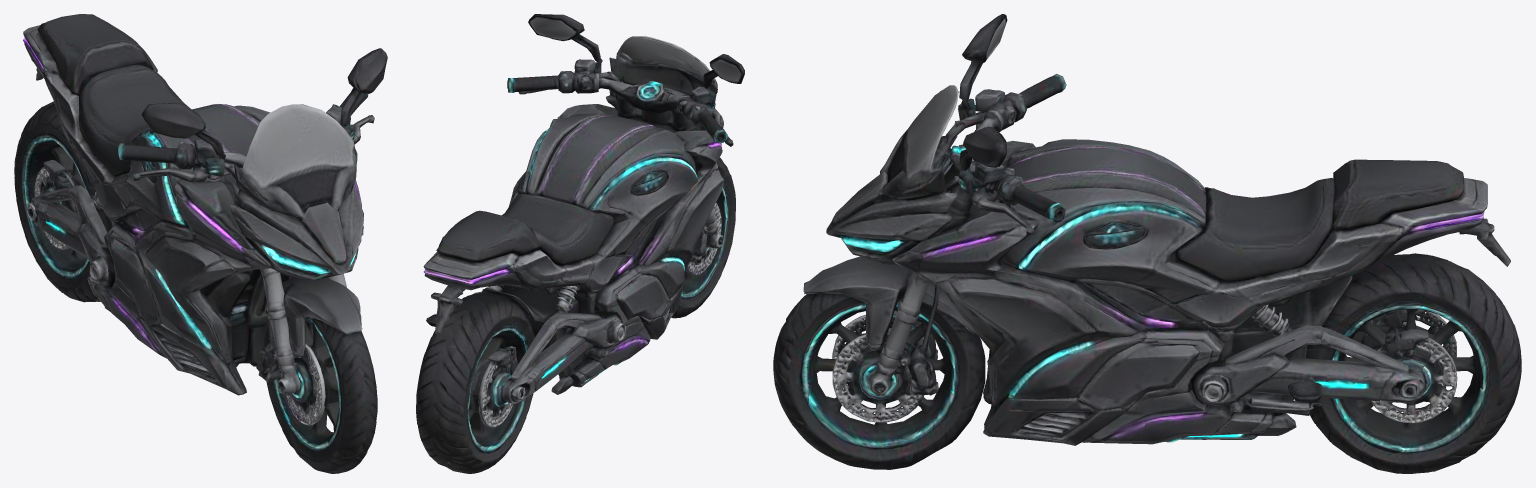
File: bike.glb
3 renders of one model, left to right at view 1: azimuth 30°, elevation 25°; view 2: azimuth 150°, elevation 25°; view 3: azimuth 270°, elevation 25°, orthographic. The views are drawn at different scales.
Parts seen in each view (by area): view 1: SM_bike; view 2: SM_bike; view 3: SM_bike.
Part boxes in pixels (left/top/right/bottom): SM_bike: left=14, top=14, right=387, bottom=473; SM_bike: left=416, top=14, right=744, bottom=473; SM_bike: left=773, top=14, right=1521, bottom=473.
Size of the model in its own units: 0.4217 by 0.5666 by 0.9801.
1 material, 1 textured.
